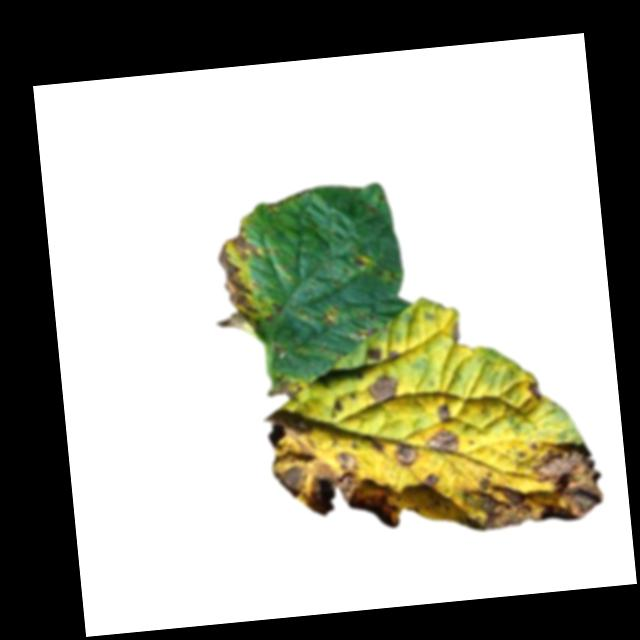Early_blight: (267, 411, 402, 538), (457, 434, 614, 532), (206, 220, 268, 343), (264, 372, 308, 400), (366, 374, 401, 403), (425, 428, 461, 454), (395, 439, 422, 467), (526, 377, 543, 402), (435, 401, 453, 423), (363, 346, 384, 362), (349, 252, 368, 269), (422, 470, 440, 487)
